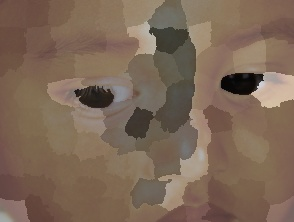vitiligo: (41, 0, 284, 222)
